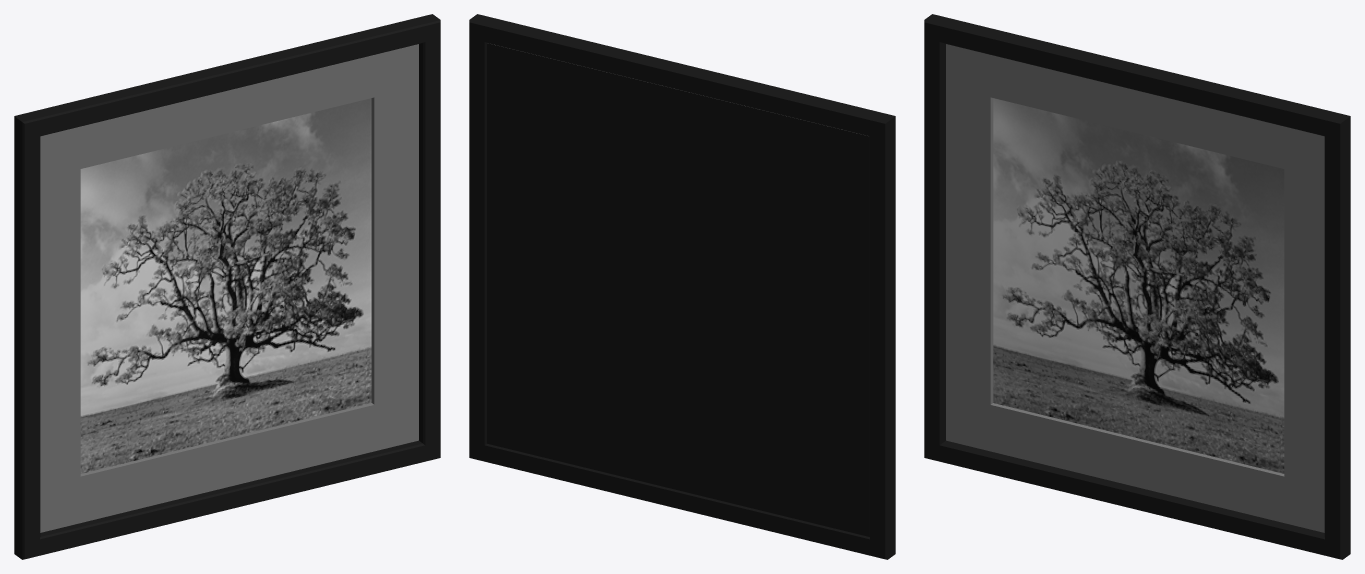
File: Picture 7.FBX
3 views of the same model, side by side, from view 1: azimuth 30°, elevation 25°; view 2: azimuth 150°, elevation 25°; view 3: azimuth 330°, elevation 25° (orthographic).
Parts seen in each view (by area): view 1: picture 7; view 2: picture 7; view 3: picture 7.
Boxes of the visible parts, left/top/right/bottom form: picture 7: left=14, top=14, right=440, bottom=559; picture 7: left=469, top=14, right=895, bottom=559; picture 7: left=924, top=14, right=1350, bottom=559.
Bounding box in the file's own units: 470 × 470 × 20.
1 material, 1 textured.
